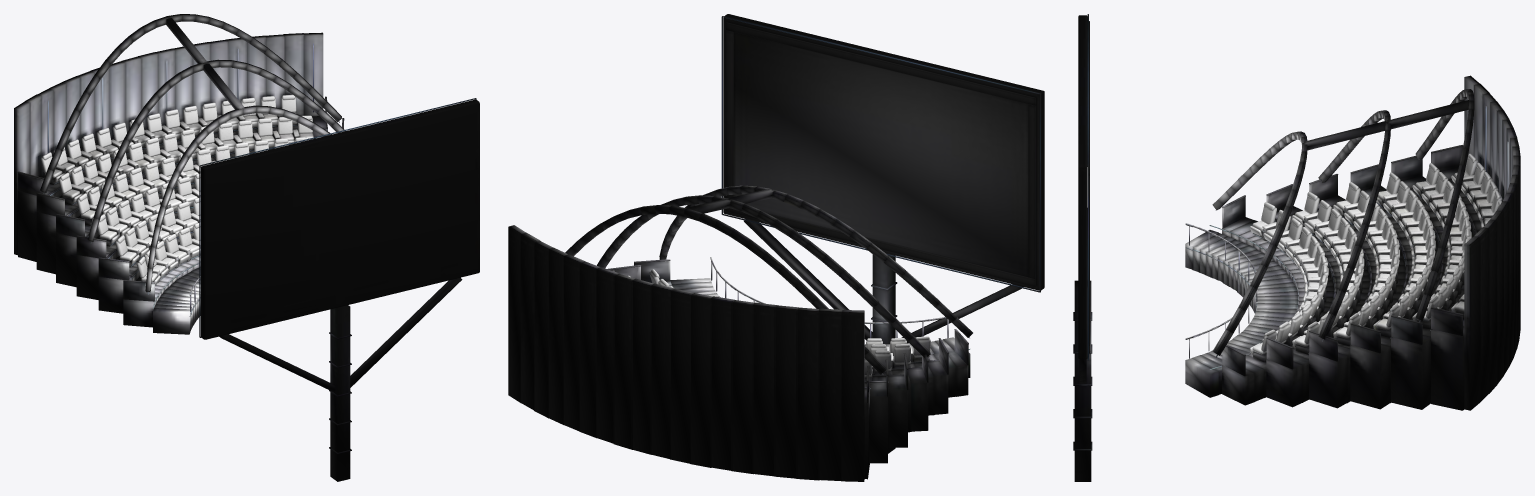
File: space_deck_glow.glb
3 renders of one model, left to right at view 1: azimuth 30°, elevation 25°; view 2: azimuth 150°, elevation 25°; view 3: azimuth 270°, elevation 25°, orthographic. The views are drawn at different scales.
Visible parts, largest first — view 1: space_deck, space_seats; view 2: space_deck, space_seats; view 3: space_deck, space_seats.
Part boxes in pixels (x1,y1,x2,y2): space_deck: [14, 14, 479, 481]; space_seats: [40, 94, 322, 285]; space_deck: [508, 14, 1044, 481]; space_seats: [627, 269, 930, 380]; space_deck: [1073, 14, 1520, 481]; space_seats: [1249, 153, 1502, 362].
Size of the model in its own units: 16.91 by 18 by 18.77.
2 materials, 2 textured.
